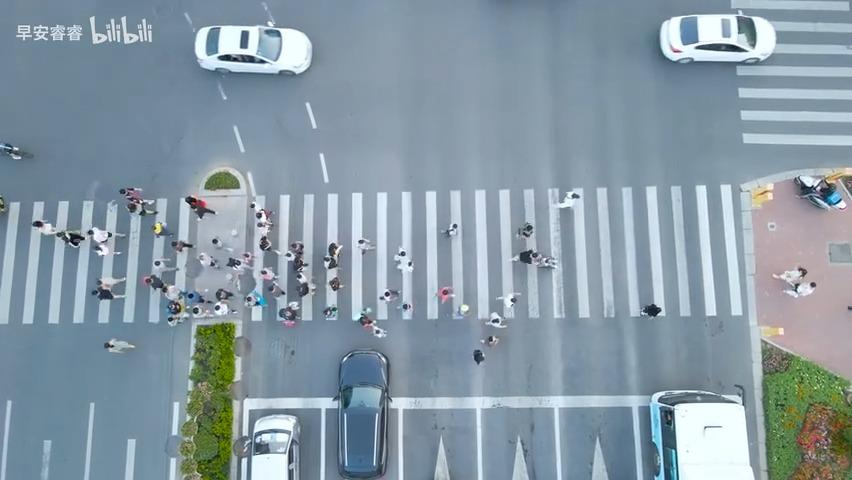Civilian: (793, 170, 848, 211), (507, 242, 547, 273), (92, 274, 127, 306), (83, 224, 128, 246), (434, 217, 467, 245), (771, 265, 807, 290), (184, 194, 216, 219), (165, 235, 197, 260), (321, 241, 348, 270), (278, 300, 305, 328), (556, 186, 582, 213), (513, 215, 539, 242), (497, 289, 525, 314), (193, 249, 222, 273), (125, 199, 153, 223), (450, 297, 474, 324), (480, 329, 505, 354), (250, 208, 275, 233), (241, 289, 266, 314), (636, 300, 662, 324), (368, 320, 394, 344), (538, 249, 565, 272), (468, 344, 492, 369), (147, 216, 171, 241), (350, 234, 376, 257), (0, 142, 33, 160), (782, 280, 816, 297), (482, 310, 508, 332), (227, 255, 253, 277), (292, 272, 316, 295), (185, 301, 211, 322), (255, 233, 281, 254), (375, 284, 399, 306), (144, 272, 166, 296), (355, 306, 376, 331), (202, 233, 228, 253), (103, 337, 135, 353), (210, 282, 234, 303), (286, 233, 309, 254), (399, 254, 419, 278), (319, 302, 340, 324), (398, 296, 418, 319), (394, 241, 413, 265), (436, 282, 455, 305), (116, 183, 140, 201), (211, 299, 233, 318), (256, 262, 275, 283), (327, 276, 350, 293), (147, 256, 169, 273), (165, 312, 185, 330), (247, 199, 267, 214), (189, 284, 204, 301)
